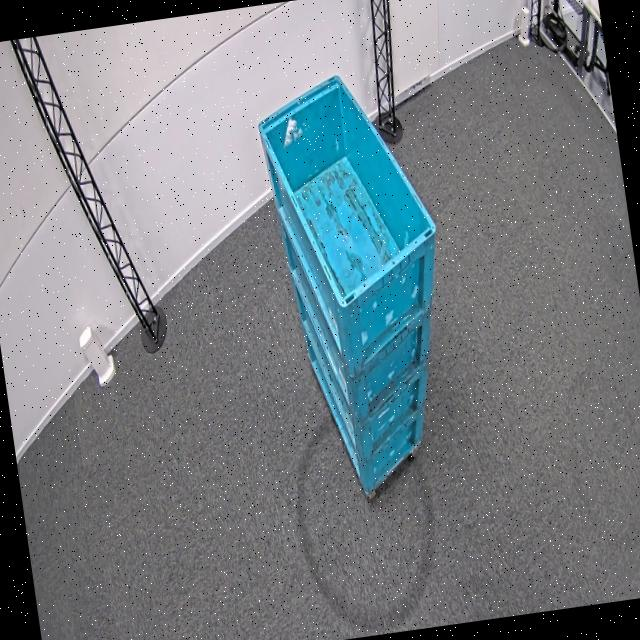RollB4: (252, 61, 448, 321)
